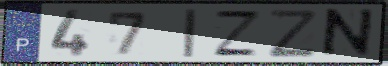4: (48, 7, 94, 58)
7: (106, 10, 149, 56)
I: (181, 7, 199, 59)
N: (317, 7, 377, 60)
Z: (266, 8, 319, 59), (210, 8, 264, 58)
